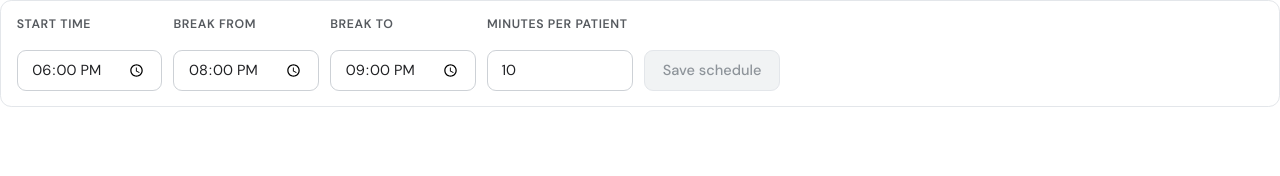
Test case: OpdScheduleBar › ⚕️ what is not a schedule is said in words and NOT sent
The width and height of the screenshot is (1280, 176).
Clear the time field labelled "Break to" at [403, 70], box [330, 50, 476, 91]
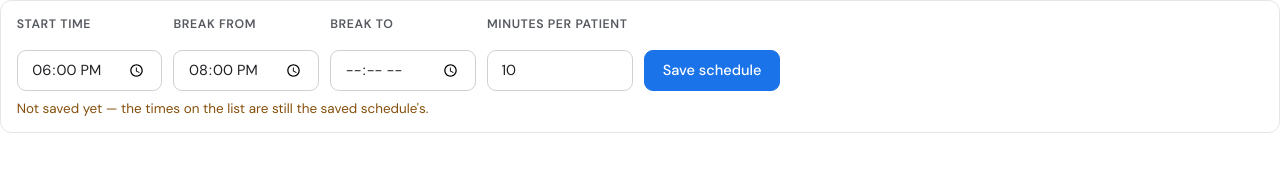
Click the button "Save schedule" at [712, 70], box [644, 50, 780, 91]
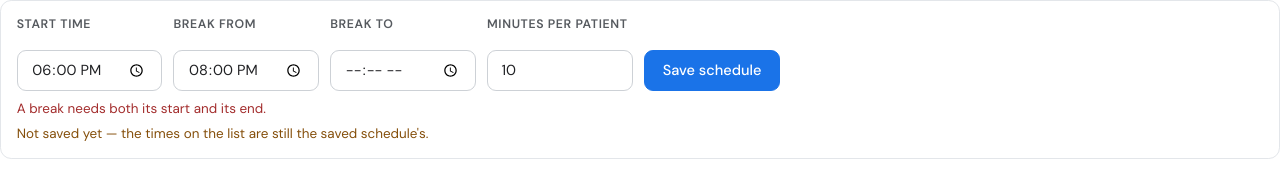
Expected: the message reads "A break needs both its start and its end.", [17, 100, 266, 116]
